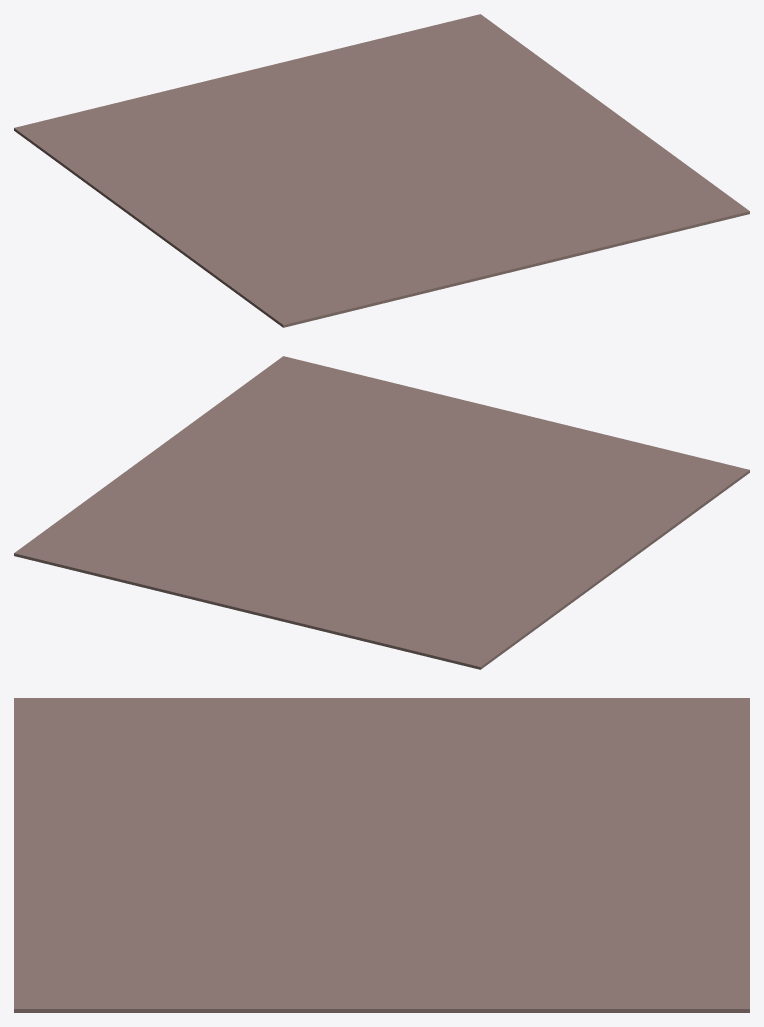
File: sm_floor4x4m_01.fbx
The picture shows the model from 3 angles, top to bottom: view 1: azimuth 30°, elevation 25°; view 2: azimuth 150°, elevation 25°; view 3: azimuth 270°, elevation 25°; orthographic projection. The views are drawn at different scales.
Visible parts, largest first — view 1: floor4x4m_01; view 2: floor4x4m_01; view 3: floor4x4m_01.
Part boxes in pixels (x1,y1,x2,y2): floor4x4m_01: [14, 14, 749, 327]; floor4x4m_01: [14, 356, 749, 669]; floor4x4m_01: [14, 698, 749, 1012].
Bounding box in the file's own units: 400 × 2.29 × 400.
